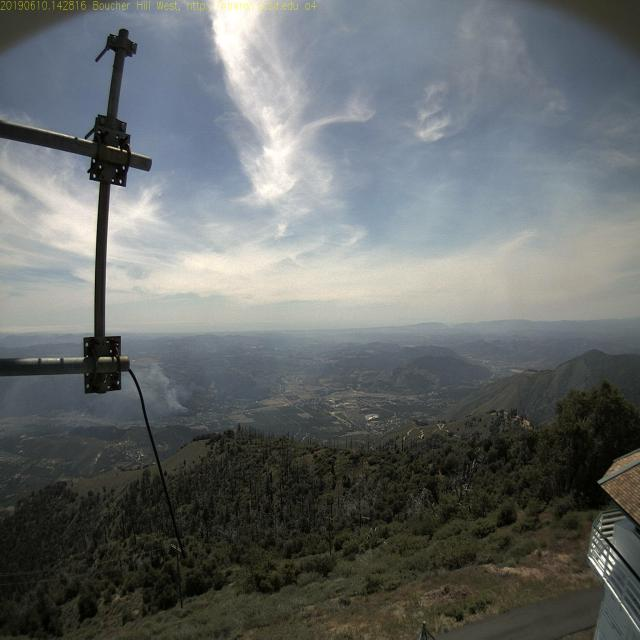smoke: (170, 389, 200, 428)
